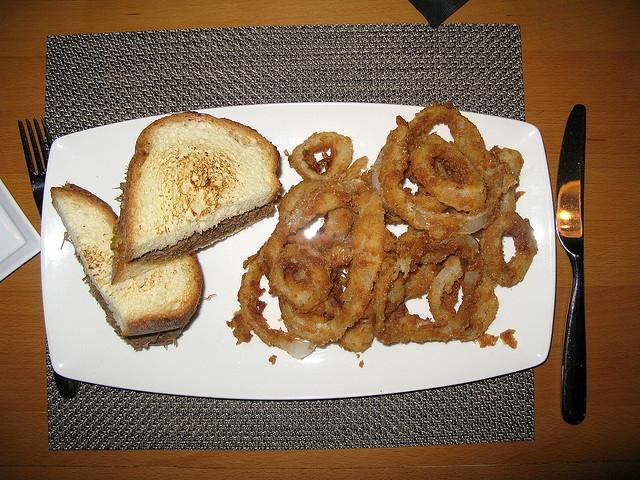onion: (378, 100, 502, 234), (278, 251, 381, 345), (238, 240, 316, 358), (277, 178, 353, 253), (377, 294, 478, 344), (479, 211, 539, 286), (268, 244, 332, 310), (284, 132, 352, 181), (392, 234, 458, 280), (488, 146, 526, 216), (226, 300, 267, 346), (403, 262, 443, 302), (436, 272, 464, 322), (338, 318, 374, 354), (322, 228, 353, 268), (384, 272, 405, 314), (410, 193, 450, 213), (383, 228, 409, 255), (342, 155, 368, 182), (472, 332, 501, 348)
